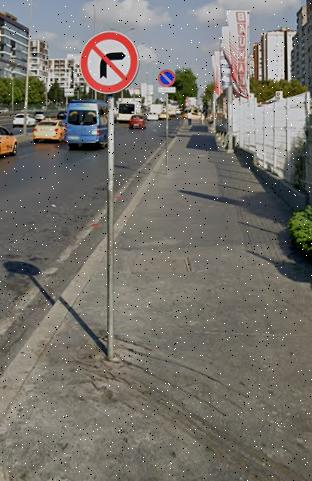nopark: (156, 69, 175, 87)
rightturnsareforbidden: (84, 33, 137, 91)
